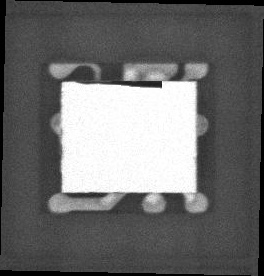DIE_BROKEN: (75, 78, 165, 90)
